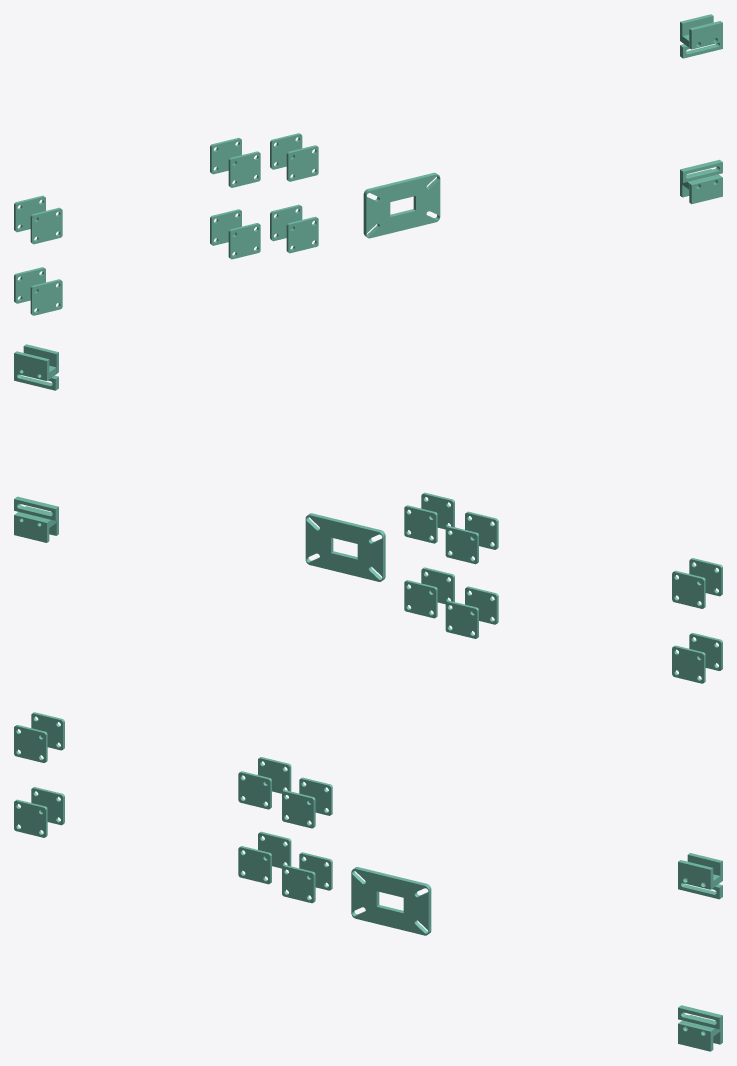
Rendered from repo_parts.glb.
The picture shows the model from 3 angles, top to bottom: view 1: azimuth 30°, elevation 25°; view 2: azimuth 150°, elevation 25°; view 3: azimuth 330°, elevation 25°; orthographic projection. The views are drawn at different scales.
Parts seen in each view (by area): view 1: REPO_SF_FC_iso_pad_TPU_0, REPO_SF_XC_crossing_clamp_G10_2p0_2, REPO_SF_XC_crossing_clamp_G10_2p0_8, REPO_SF_XC_crossing_clamp_G10_2p0_9, REPO_SF_XC_crossing_clamp_G10_2p0_6, REPO_SF_XC_crossing_clamp_G10_2p0_0, REPO_SF_XC_crossing_clamp_G10_2p0_4, REPO_SF_EDF_ear_bracket_lower_0, REPO_SF_EDF_ear_bracket_lower_1, REPO_SF_XC_belly_strap_G10_2p0_0, REPO_SF_XC_belly_strap_G10_2p0_1, REPO_SF_XC_crossing_clamp_G10_2p0_7 (+5 smaller); view 2: REPO_SF_FC_iso_pad_TPU_0, REPO_SF_EDF_ear_bracket_lower_1, REPO_SF_EDF_ear_bracket_lower_0, REPO_SF_XC_crossing_clamp_G10_2p0_3, REPO_SF_XC_crossing_clamp_G10_2p0_5, REPO_SF_XC_crossing_clamp_G10_2p0_1, REPO_SF_XC_crossing_clamp_G10_2p0_7, REPO_SF_XC_belly_strap_G10_2p0_1, REPO_SF_XC_belly_strap_G10_2p0_0, REPO_SF_XC_crossing_clamp_G10_2p0_9, REPO_SF_XC_crossing_clamp_G10_2p0_8, REPO_SF_XC_crossing_clamp_G10_2p0_0 (+3 smaller); view 3: REPO_SF_FC_iso_pad_TPU_0, REPO_SF_XC_crossing_clamp_G10_2p0_2, REPO_SF_XC_crossing_clamp_G10_2p0_4, REPO_SF_XC_crossing_clamp_G10_2p0_8, REPO_SF_XC_crossing_clamp_G10_2p0_9, REPO_SF_XC_crossing_clamp_G10_2p0_6, REPO_SF_XC_crossing_clamp_G10_2p0_0, REPO_SF_EDF_ear_bracket_lower_0, REPO_SF_EDF_ear_bracket_lower_1, REPO_SF_XC_belly_strap_G10_2p0_0, REPO_SF_XC_belly_strap_G10_2p0_1, REPO_SF_XC_crossing_clamp_G10_2p0_3 (+5 smaller).
Part boxes in pixels (left/top/right/bottom): REPO_SF_FC_iso_pad_TPU_0: left=363, top=172, right=440, bottom=238; REPO_SF_XC_crossing_clamp_G10_2p0_2: left=30, top=279, right=62, bottom=315; REPO_SF_XC_crossing_clamp_G10_2p0_8: left=228, top=151, right=260, bottom=187; REPO_SF_XC_crossing_clamp_G10_2p0_9: left=228, top=223, right=260, bottom=259; REPO_SF_XC_crossing_clamp_G10_2p0_6: left=286, top=216, right=318, bottom=253; REPO_SF_XC_crossing_clamp_G10_2p0_0: left=30, top=207, right=62, bottom=244; REPO_SF_XC_crossing_clamp_G10_2p0_4: left=286, top=145, right=318, bottom=181; REPO_SF_EDF_ear_bracket_lower_0: left=680, top=14, right=722, bottom=58; REPO_SF_EDF_ear_bracket_lower_1: left=680, top=159, right=722, bottom=197; REPO_SF_XC_belly_strap_G10_2p0_0: left=210, top=137, right=241, bottom=174; REPO_SF_XC_belly_strap_G10_2p0_1: left=210, top=209, right=241, bottom=245; REPO_SF_XC_crossing_clamp_G10_2p0_7: left=270, top=204, right=302, bottom=241; REPO_SF_FC_iso_pad_TPU_0: left=305, top=513, right=385, bottom=581; REPO_SF_EDF_ear_bracket_lower_1: left=14, top=496, right=58, bottom=542; REPO_SF_EDF_ear_bracket_lower_0: left=14, top=351, right=58, bottom=390; REPO_SF_XC_crossing_clamp_G10_2p0_3: left=672, top=645, right=705, bottom=683; REPO_SF_XC_crossing_clamp_G10_2p0_5: left=404, top=505, right=437, bottom=543; REPO_SF_XC_crossing_clamp_G10_2p0_1: left=672, top=570, right=705, bottom=608; REPO_SF_XC_crossing_clamp_G10_2p0_7: left=404, top=580, right=437, bottom=618; REPO_SF_XC_belly_strap_G10_2p0_1: left=445, top=600, right=478, bottom=638; REPO_SF_XC_belly_strap_G10_2p0_0: left=445, top=526, right=478, bottom=564; REPO_SF_XC_crossing_clamp_G10_2p0_9: left=465, top=586, right=498, bottom=624; REPO_SF_XC_crossing_clamp_G10_2p0_8: left=465, top=511, right=498, bottom=549; REPO_SF_XC_crossing_clamp_G10_2p0_0: left=689, top=558, right=722, bottom=596; REPO_SF_FC_iso_pad_TPU_0: left=351, top=867, right=431, bottom=935; REPO_SF_XC_crossing_clamp_G10_2p0_2: left=14, top=799, right=47, bottom=837; REPO_SF_XC_crossing_clamp_G10_2p0_4: left=282, top=790, right=315, bottom=828; REPO_SF_XC_crossing_clamp_G10_2p0_8: left=238, top=771, right=271, bottom=809; REPO_SF_XC_crossing_clamp_G10_2p0_9: left=238, top=846, right=271, bottom=884; REPO_SF_XC_crossing_clamp_G10_2p0_6: left=282, top=865, right=315, bottom=903; REPO_SF_XC_crossing_clamp_G10_2p0_0: left=14, top=725, right=47, bottom=762; REPO_SF_EDF_ear_bracket_lower_0: left=678, top=853, right=722, bottom=899; REPO_SF_EDF_ear_bracket_lower_1: left=678, top=1005, right=722, bottom=1044; REPO_SF_XC_belly_strap_G10_2p0_0: left=258, top=757, right=291, bottom=794; REPO_SF_XC_belly_strap_G10_2p0_1: left=258, top=831, right=291, bottom=869; REPO_SF_XC_crossing_clamp_G10_2p0_3: left=31, top=787, right=64, bottom=825.
Bounding box in the file's own units: 480 × 117 × 49.75.
